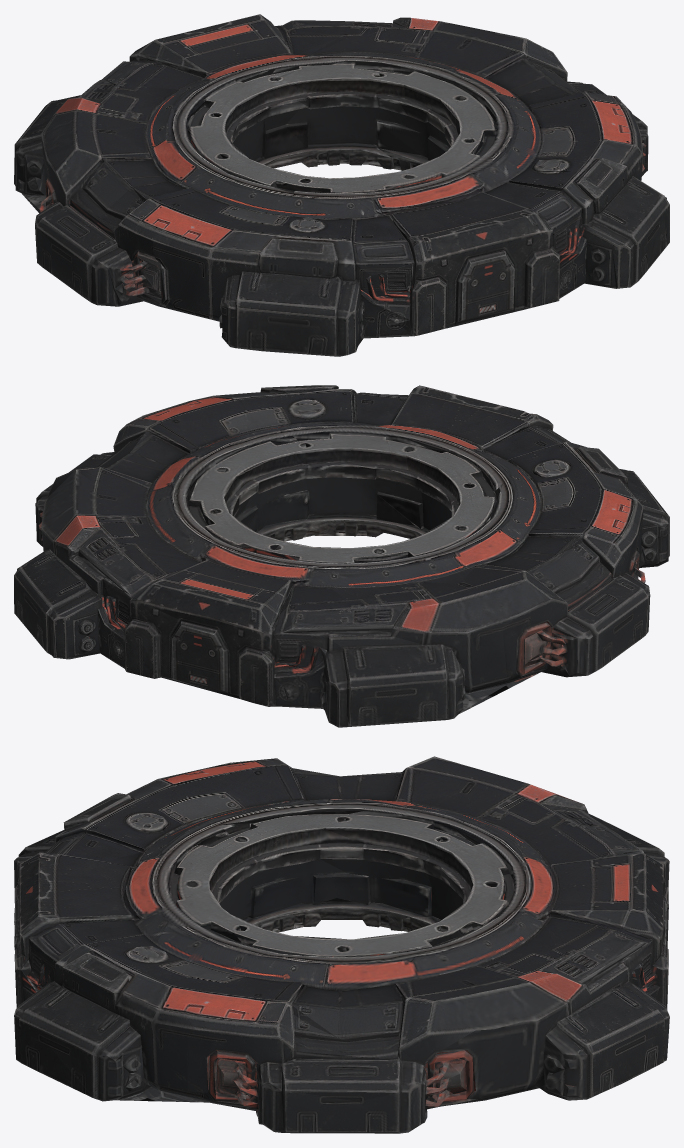
File: cannon_base.glb
3 views of the same model, one above another, from view 1: azimuth 30°, elevation 25°; view 2: azimuth 150°, elevation 25°; view 3: azimuth 270°, elevation 25° (orthographic). The views are drawn at different scales.
Visible parts, largest first — view 1: output_unwrapped; view 2: output_unwrapped; view 3: output_unwrapped.
Part boxes in pixels (x1,y1,x2,y2): output_unwrapped: (14, 14, 669, 356); output_unwrapped: (14, 385, 669, 727); output_unwrapped: (14, 756, 669, 1133).
Size of the model in its own units: 1.9 by 0.3005 by 1.72.
1 material, 1 textured.
